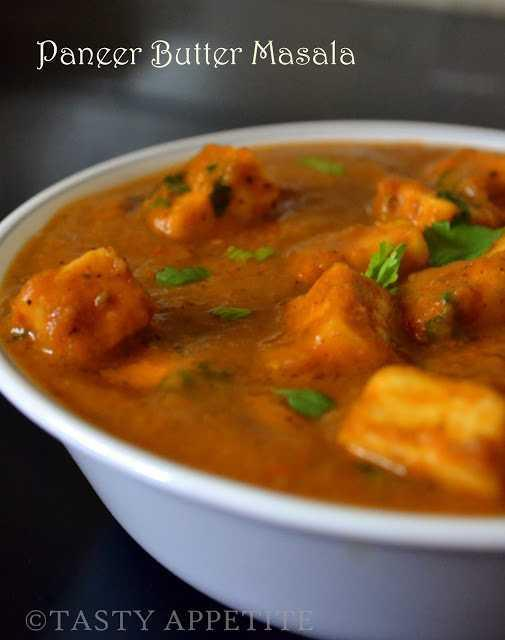paneer: (129, 171, 505, 474)
